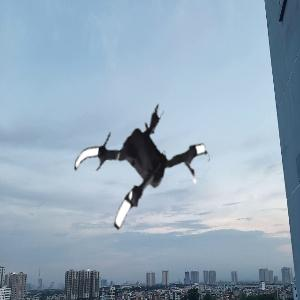drone: (73, 89, 222, 238)
